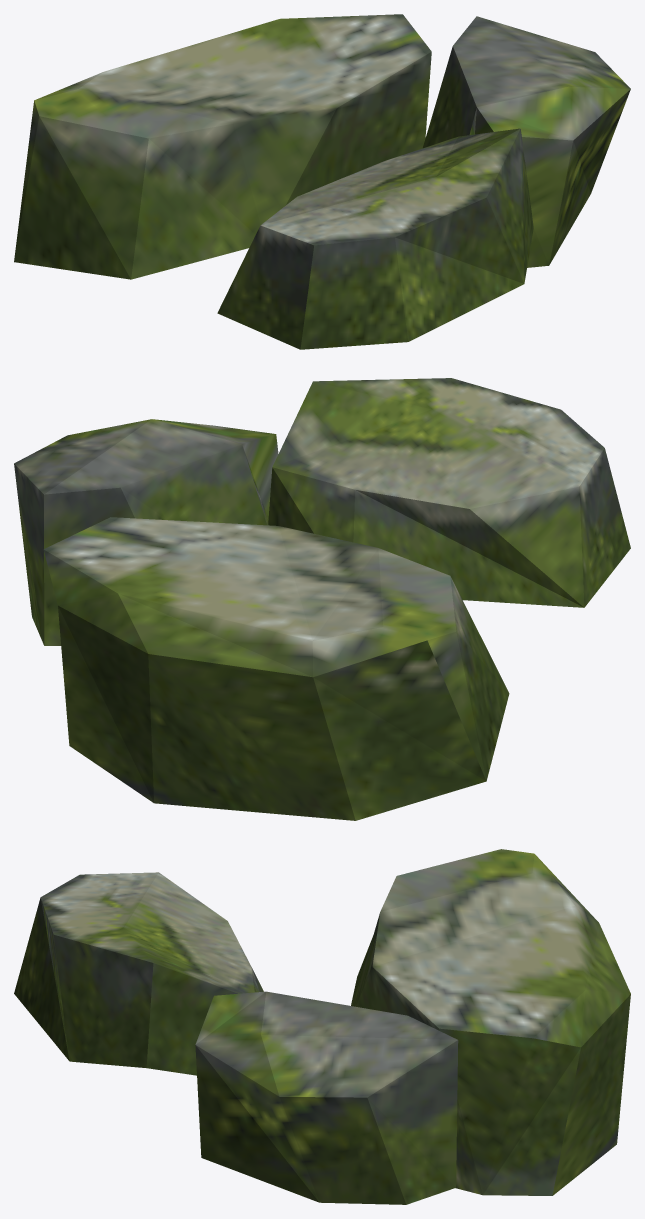
The model's file is 4002_Item_shitou_2.FBX.
3 views of the same model, one above another, from view 1: azimuth 30°, elevation 25°; view 2: azimuth 150°, elevation 25°; view 3: azimuth 270°, elevation 25° (orthographic). The views are drawn at different scales.
Visible parts, largest first — view 1: 4002_Item_shitou_2; view 2: 4002_Item_shitou_2; view 3: 4002_Item_shitou_2.
Part boxes in pixels (bbox=[...]): 4002_Item_shitou_2: bbox=[14, 14, 630, 349]; 4002_Item_shitou_2: bbox=[14, 378, 630, 820]; 4002_Item_shitou_2: bbox=[14, 849, 630, 1204].
Size of the model in its own units: 1398 by 562 by 1430.
